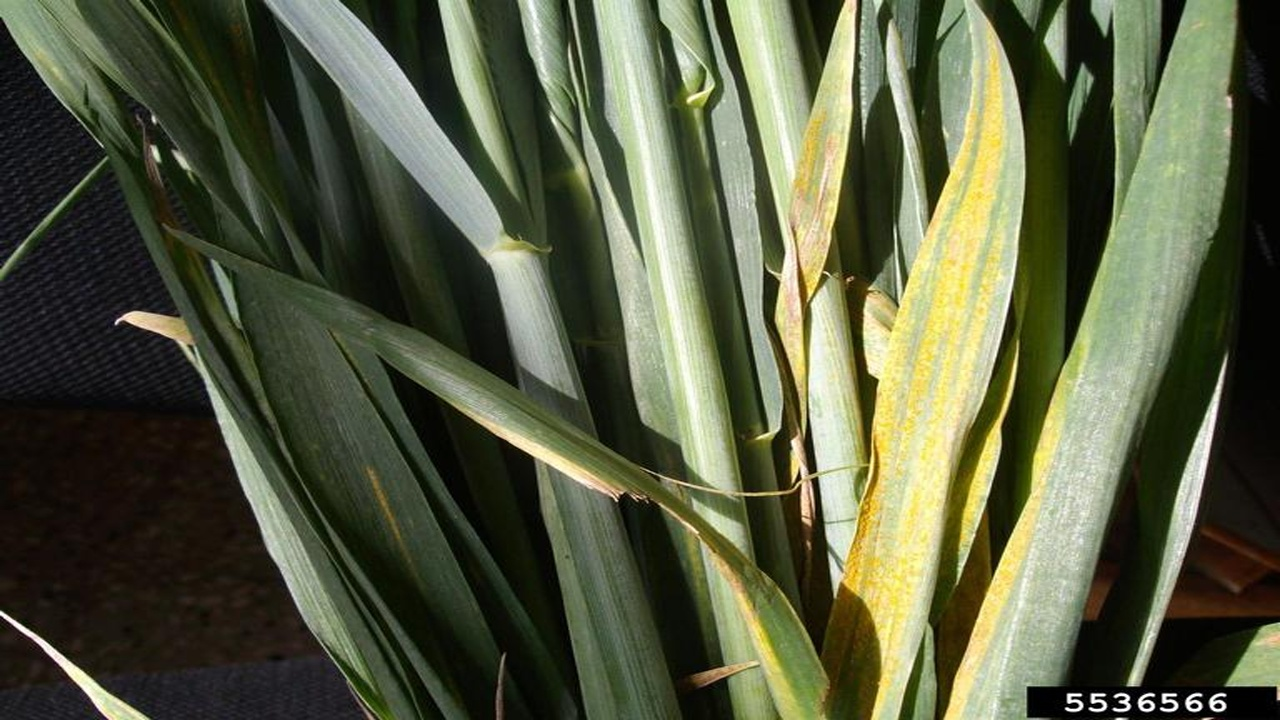stripe_rust: (816, 1, 1023, 720), (778, 1, 858, 492)
